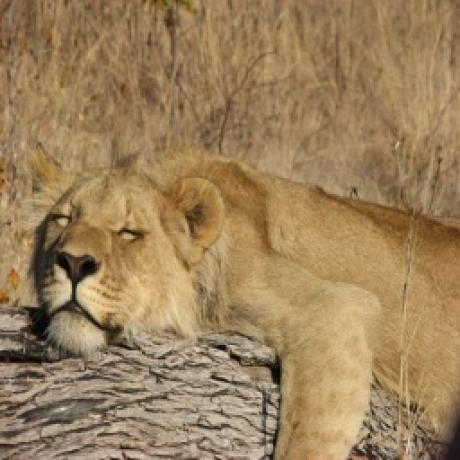Lion: (23, 139, 459, 460)
